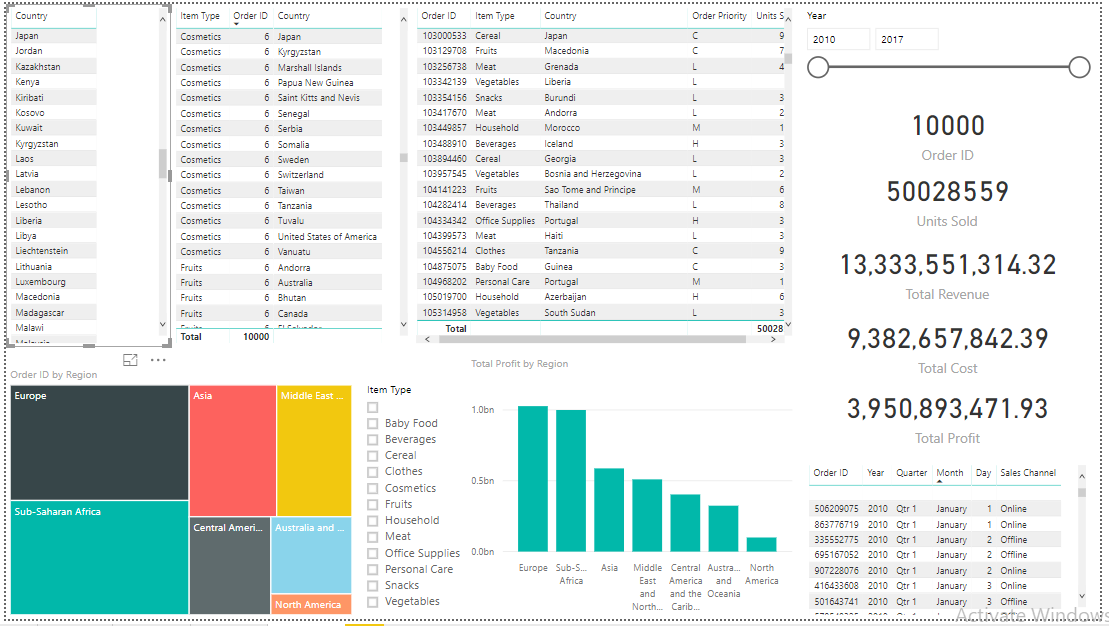

Layout of this report page (visuals, bound fields, positions):
{"tool":"powerbi","page":{"name":"Page 3","canvas":[1280,720],"ordinal":4},"visuals":[{"type":"card","fields":{"Values":["Sum(Sales Records.Units Sold)"]},"box":[995.3,190,213.4,75.7],"z":4},{"type":"treemap","fields":{"Group":["Sales Records.Region"],"Values":["CountNonNull(Sales Records.Order ID)"]},"box":[0,425.4,410.2,294.6],"z":4},{"type":"tableEx","fields":{"Values":["Sales Records.Item Type","Sales Records.Order ID","Sales Records.Country"]},"box":[192.7,0,282.2,402],"z":6},{"type":"slicer","fields":{"Values":["Sales Records.Order Date.Variation.Date Hierarchy.Year"]},"box":[925.1,0,355.2,101.9],"z":6},{"type":"tableEx","fields":{"Values":["Sales Records.Order ID","Sales Records.Item Type","Sales Records.Country","Sales Records.Order Priority","Sum(Sales Records.Units Sold)"]},"box":[475,0,450.2,402],"z":7},{"type":"card","fields":{"Values":["Sum(Sales Records.Total Revenue)"]},"box":[960,274,284.5,77.3],"z":7},{"type":"tableEx","fields":{"Values":["Sales Records.Country"]},"box":[0,0,192.7,402],"z":8},{"type":"card","fields":{"Values":["Sum(Sales Records.Total Cost)"]},"box":[946,360.6,312.6,77.3],"z":8},{"type":"slicer","fields":{"Values":["Sales Records.Item Type"]},"box":[409.8,437.9,130,282.1],"z":8},{"type":"card","fields":{"Values":["Sum(Sales Records.Total Profit)"]},"box":[954.1,442.5,296.2,77.3],"z":9},{"type":"card","fields":{"Values":["CountNonNull(Sales Records.Order ID)"]},"box":[1038.4,111.2,127.6,78.4],"z":10},{"type":"clusteredColumnChart","fields":{"Category":["Sales Records.Region"],"Y":["Sum(Sales Records.Total Profit)"]},"box":[539.7,412.1,386.3,307.9],"z":12},{"type":"tableEx","fields":{"Values":["Sales Records.Order ID","Sales Records.Order Date.Variation.Date Hierarchy.Year","Sales Records.Order Date.Variation.Date Hierarchy.Quarter","Sales Records.Order Date.Variation.Date Hierarchy.Month","Sales Records.Order Date.Variation.Date Hierarchy.Day","Sales Records.Sales Channel"]},"box":[934.2,535,334.8,185],"z":13}]}

Visuals, with their boxes on the page's 1280x720 design canvas (x1, y1, x2, y2). These are canvas units, not pixel positions in the 1109x626 screenshot, which may show the page scaled, cropped or inside an application window:
card - Sum(Sales Records.Units Sold): <region>995, 190, 1209, 266</region>
treemap - Sales Records.Region x CountNonNull(Sales Records.Order ID): <region>0, 425, 410, 720</region>
tableEx - Sales Records.Item Type x Sales Records.Order ID: <region>193, 0, 475, 402</region>
slicer - Sales Records.Order Date.Variation.Date Hierarchy.Year: <region>925, 0, 1280, 102</region>
tableEx - Sales Records.Order ID x Sales Records.Item Type: <region>475, 0, 925, 402</region>
card - Sum(Sales Records.Total Revenue): <region>960, 274, 1244, 351</region>
tableEx - Sales Records.Country: <region>0, 0, 193, 402</region>
card - Sum(Sales Records.Total Cost): <region>946, 361, 1259, 438</region>
slicer - Sales Records.Item Type: <region>410, 438, 540, 720</region>
card - Sum(Sales Records.Total Profit): <region>954, 442, 1250, 520</region>
card - CountNonNull(Sales Records.Order ID): <region>1038, 111, 1166, 190</region>
clusteredColumnChart - Sales Records.Region x Sum(Sales Records.Total Profit): <region>540, 412, 926, 720</region>
tableEx - Sales Records.Order ID x Sales Records.Order Date.Variation.Date Hierarchy.Year: <region>934, 535, 1269, 720</region>
